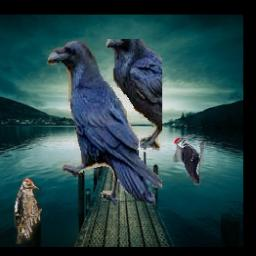Crow: (45, 40, 162, 208)
Woodpecker: (15, 179, 43, 245), (173, 134, 204, 185)
